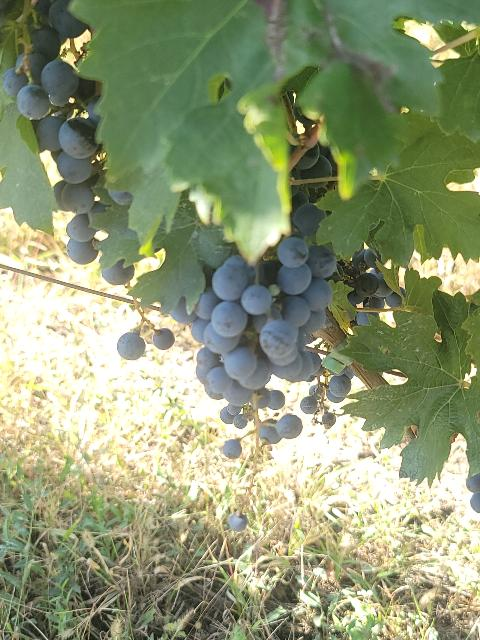grapes: (174, 202, 389, 428), (2, 0, 130, 264)
